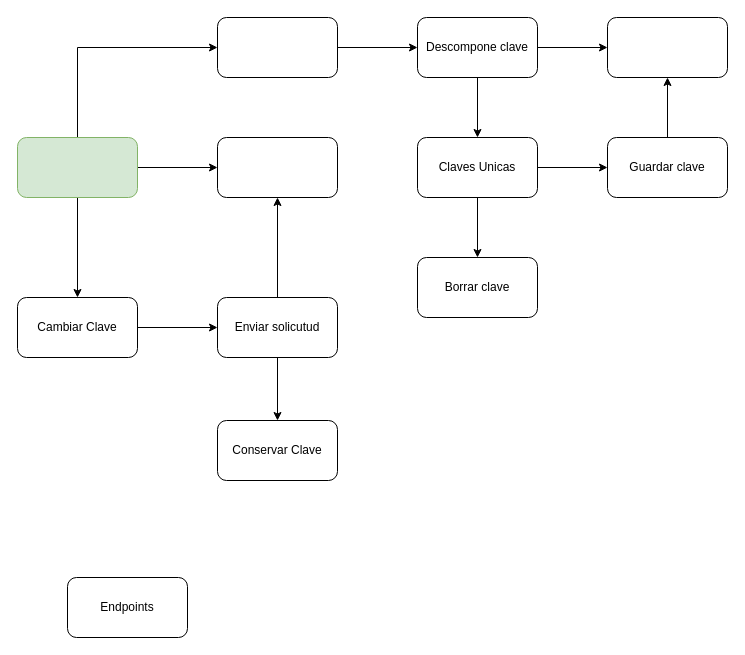
This 745x655 diagram has some shape labels left out. The shapes that lost their labels are listed below. From the top down, each one's centre as x and y in pixels, then its label:
At [277,47]: "Gestionar clave".
At [667,47]: "Claves Guardadas".
At [77,167]: "Gestor de claves".
At [277,167]: "Crear Clave".
